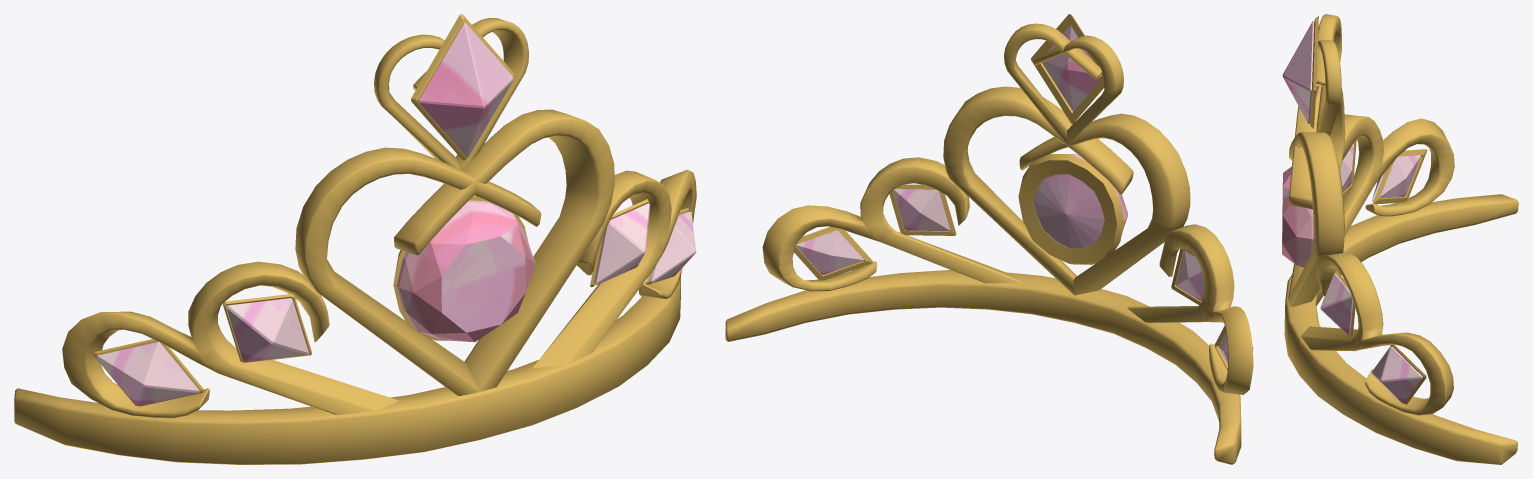
The model's file is pm0025_00_Rig.fbx.
3 renders of one model, left to right at view 1: azimuth 30°, elevation 25°; view 2: azimuth 150°, elevation 25°; view 3: azimuth 270°, elevation 25°, orthographic. The views are drawn at different scales.
Parts seen in each view (by area): view 1: doodad_gofest_2023_tiaragoldSkin, doodad_gofest_2023_tiarastoneSkin; view 2: doodad_gofest_2023_tiaragoldSkin, doodad_gofest_2023_tiarastoneSkin; view 3: doodad_gofest_2023_tiaragoldSkin, doodad_gofest_2023_tiarastoneSkin.
Part boxes in pixels (x1,y1,x2,y2): doodad_gofest_2023_tiaragoldSkin: (14,14,696,464); doodad_gofest_2023_tiarastoneSkin: (96,23,696,406); doodad_gofest_2023_tiaragoldSkin: (725,14,1253,464); doodad_gofest_2023_tiarastoneSkin: (796,17,1253,364); doodad_gofest_2023_tiaragoldSkin: (1284,14,1518,464); doodad_gofest_2023_tiarastoneSkin: (1282,21,1422,403).
Size of the model in its own units: 0.1055 by 0.0647 by 0.0422.
